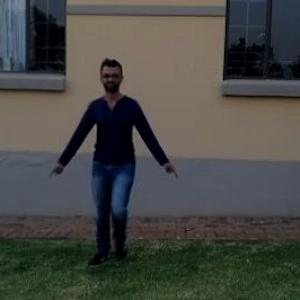land: (50, 66, 177, 260)
